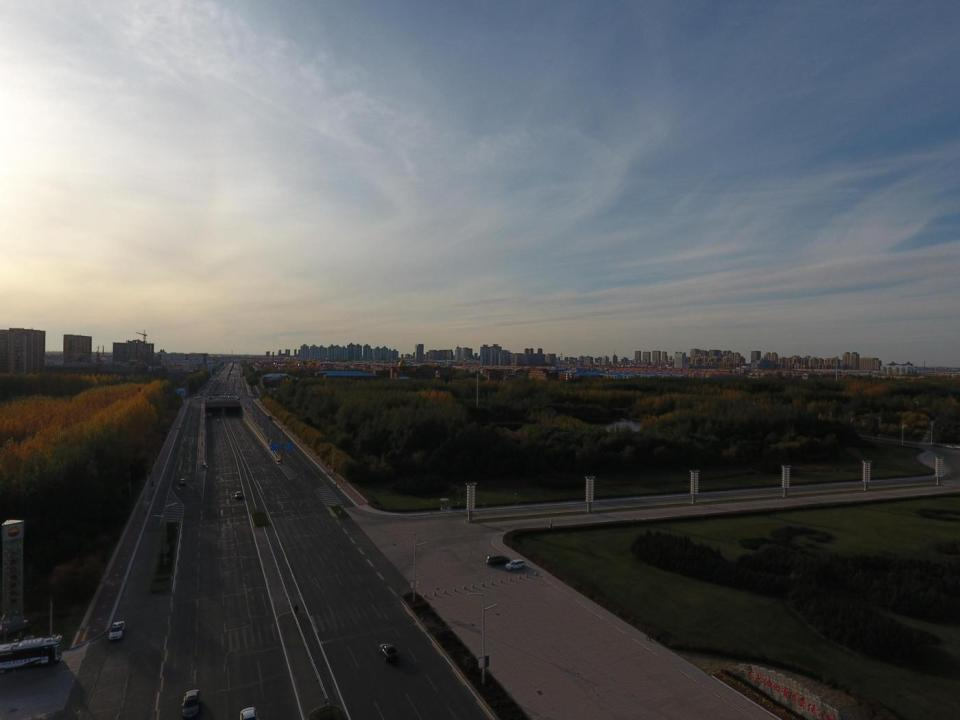bus: (0, 632, 63, 676)
car: (180, 688, 204, 718), (107, 619, 125, 642), (378, 642, 398, 662), (485, 554, 510, 567), (238, 704, 258, 720), (505, 559, 526, 570), (234, 490, 244, 499), (944, 444, 955, 450), (179, 477, 186, 486), (954, 445, 960, 449), (216, 417, 220, 422)
truck: (206, 412, 212, 420)
